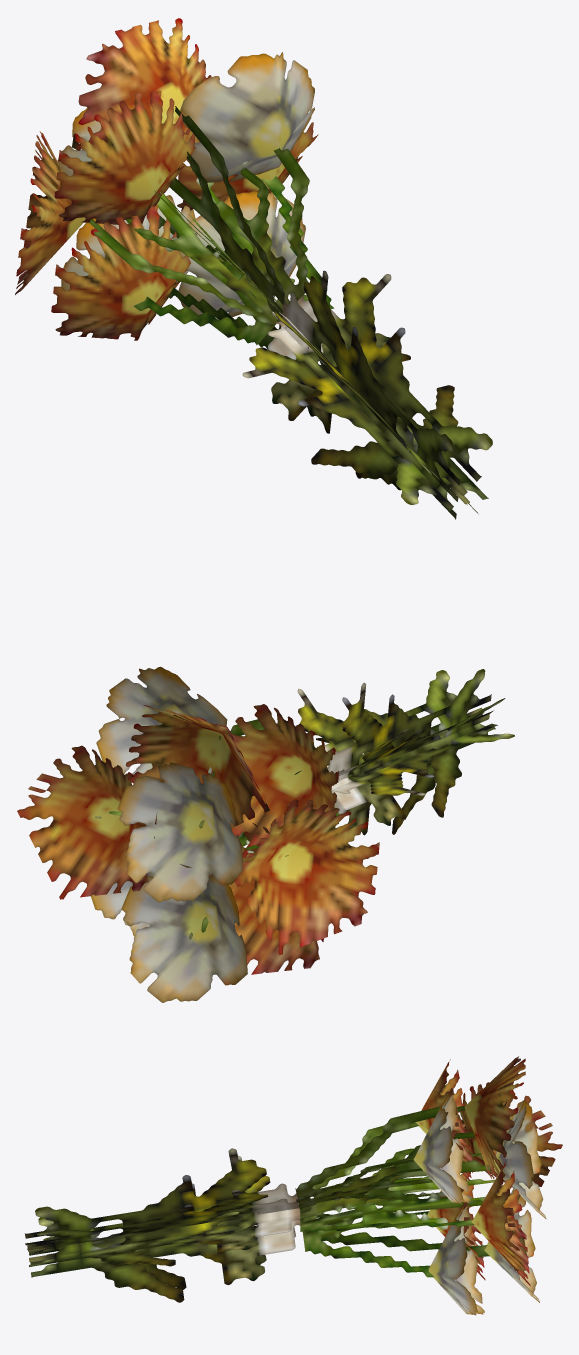
The model's file is flowersbunch03.obj.
The picture shows the model from 3 angles, top to bottom: view 1: azimuth 30°, elevation 25°; view 2: azimuth 150°, elevation 25°; view 3: azimuth 270°, elevation 25°; orthographic projection. The views are drawn at different scales.
Bounding box in the file's own units: 0.4728 × 0.4535 × 0.851.
